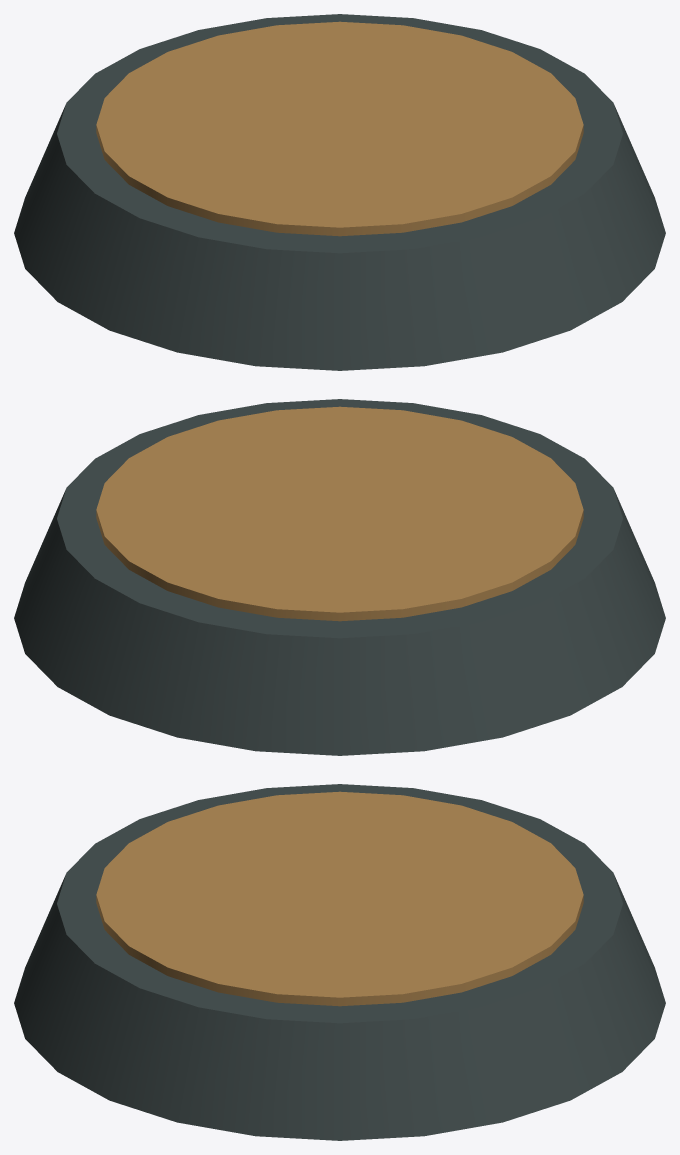
The model's file is star-dial.glb.
The picture shows the model from 3 angles, top to bottom: view 1: azimuth 30°, elevation 25°; view 2: azimuth 150°, elevation 25°; view 3: azimuth 270°, elevation 25°; orthographic projection.
Bounding box in the file's own units: 3.8 × 0.706 × 3.8.
